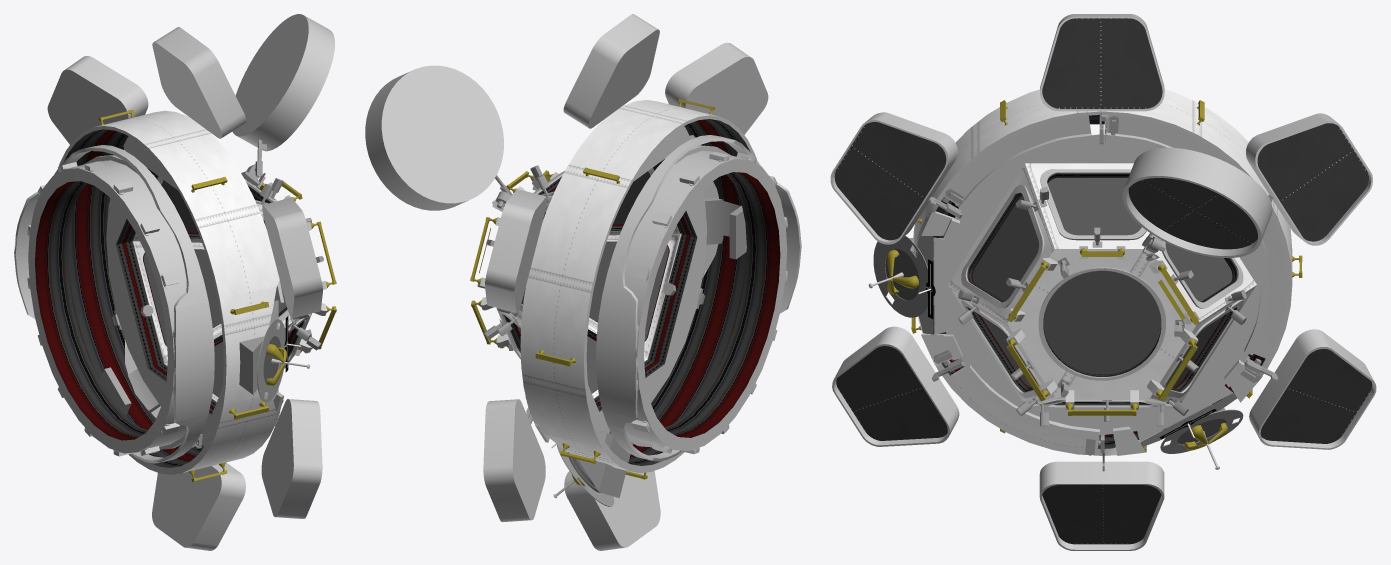
File: Cupola.FBX
3 renders of one model, left to right at view 1: azimuth 30°, elevation 25°; view 2: azimuth 150°, elevation 25°; view 3: azimuth 270°, elevation 25°, orthographic. The views are drawn at different scales.
Visible parts, largest first — view 1: cupola_open; view 2: cupola_open; view 3: cupola_open.
Part boxes in pixels (x1,y1,x2,y2): cupola_open: (14, 14, 336, 550); cupola_open: (365, 14, 801, 550); cupola_open: (830, 14, 1376, 550).
Bounding box in the file's own units: 2.17 × 3.71 × 3.43.
11 materials, 5 textured.
